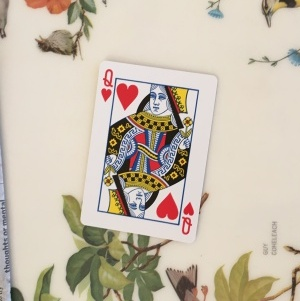card: (80, 60, 219, 241)
